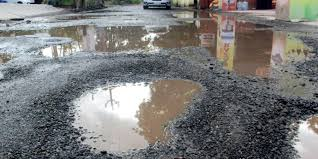potholes: (21, 15, 318, 154)
